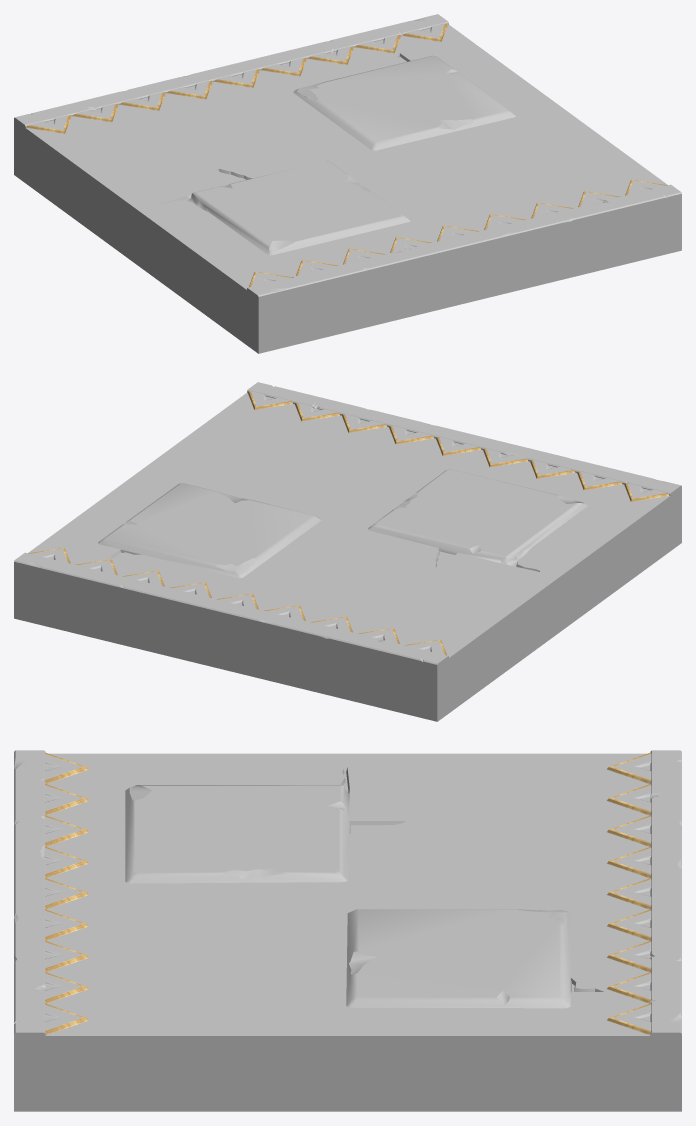
3 views of the same model, one above another, from view 1: azimuth 30°, elevation 25°; view 2: azimuth 150°, elevation 25°; view 3: azimuth 270°, elevation 25° (orthographic). The views are drawn at different scales.
Parts seen in each view (by area): view 1: SM_Vault_4m_Floor_01_v1_LOD0; view 2: SM_Vault_4m_Floor_01_v1_LOD0; view 3: SM_Vault_4m_Floor_01_v1_LOD0.
Part boxes in pixels (x1,y1,x2,y2): SM_Vault_4m_Floor_01_v1_LOD0: (14,14,681,353); SM_Vault_4m_Floor_01_v1_LOD0: (14,382,681,721); SM_Vault_4m_Floor_01_v1_LOD0: (14,750,681,1111).
Bounding box in the file's own units: 4 × 0.543 × 4.
